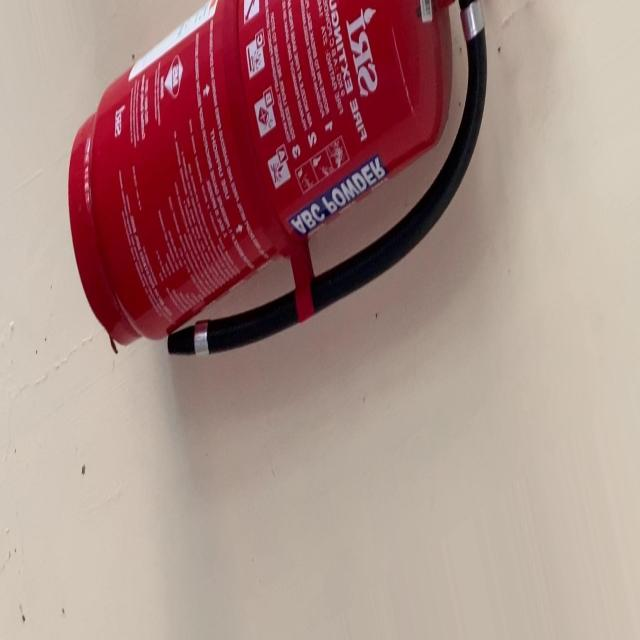fire_extinguisher: (63, 0, 492, 371)
